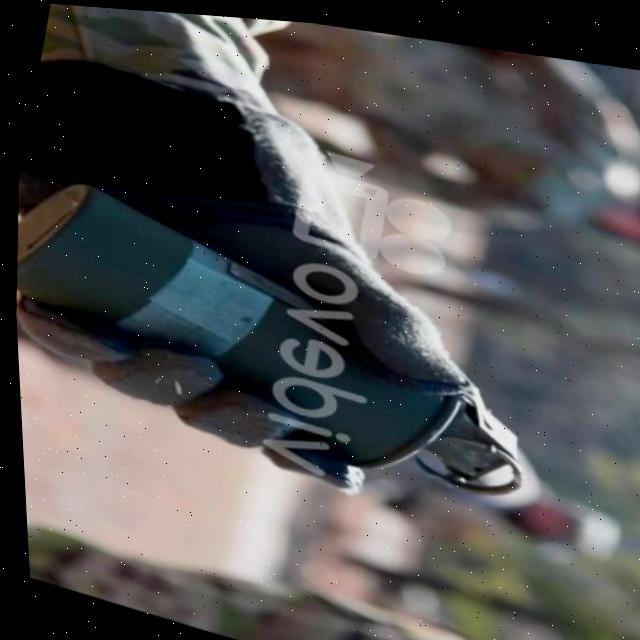grenade: (7, 160, 572, 531)
